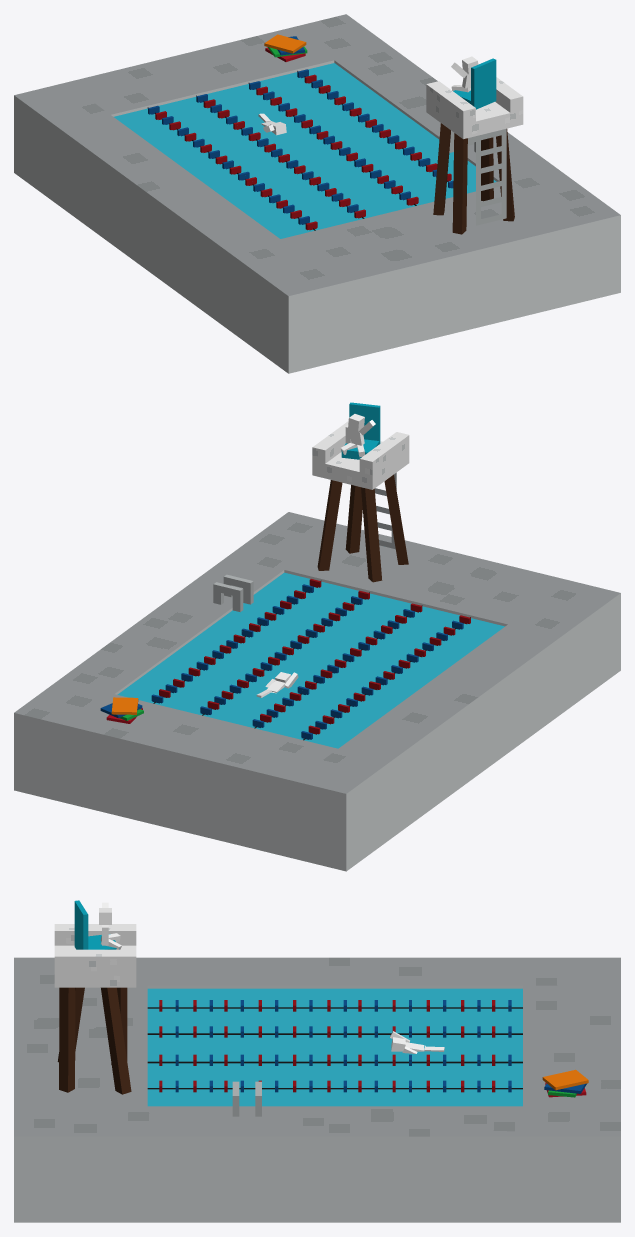
File: Swimming Pool.gltf
The picture shows the model from 3 angles, top to bottom: view 1: azimuth 30°, elevation 25°; view 2: azimuth 150°, elevation 25°; view 3: azimuth 270°, elevation 25°; orthographic projection. The views are drawn at different scales.
Parts seen in each view (by area): view 1: cube (×14), Water; view 2: cube (×12), Water; view 3: cube (×16), Water.
Part boxes in pixels (x1,y1,x2,y2): cube (×14): [14, 14, 620, 373]; Water: [114, 63, 496, 238]; cube (×12): [14, 402, 620, 871]; Water: [117, 572, 504, 748]; cube (×16): [14, 900, 620, 1222]; Water: [147, 988, 522, 1106].
Bounding box in the file's own units: 16.25 × 10.88 × 23.25.
5 materials, 1 textured.
